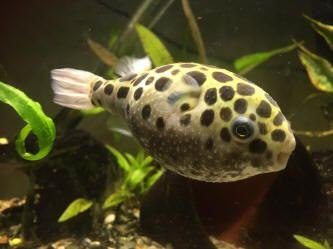Green Spotted Puffer: (50, 56, 297, 185)
